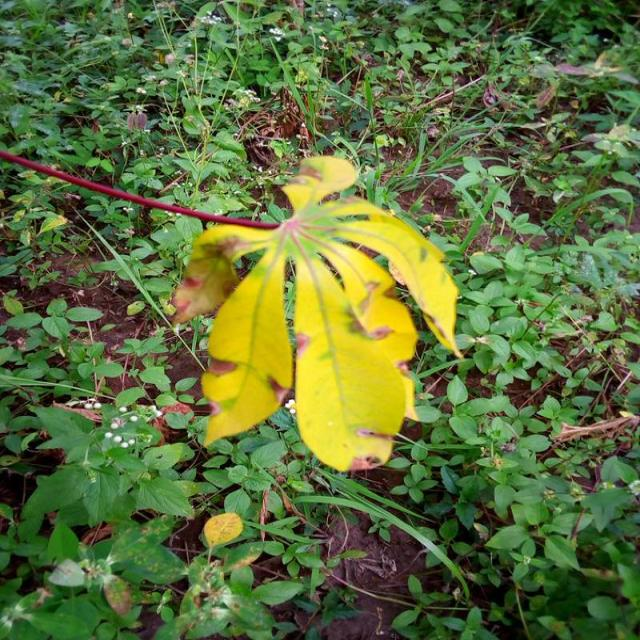cassava leaf: (174, 154, 462, 472)
